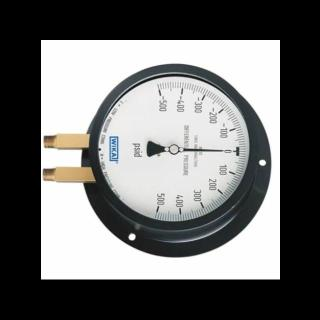gauge: (85, 51, 279, 271), (147, 194, 165, 218), (154, 80, 167, 102), (168, 143, 180, 155), (218, 147, 226, 155)
